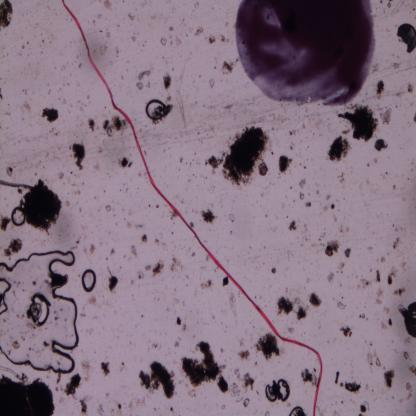Air bubble: (0, 247, 77, 374), (30, 292, 50, 328), (80, 268, 98, 295), (145, 99, 166, 120), (0, 276, 10, 315), (277, 377, 289, 404), (11, 206, 25, 227), (264, 383, 277, 401)
Background material: (204, 123, 270, 185), (182, 338, 229, 393), (0, 372, 55, 415), (22, 178, 64, 234), (135, 360, 178, 400), (338, 105, 379, 140), (230, 364, 257, 406), (254, 332, 282, 360), (399, 299, 416, 341), (395, 23, 416, 56), (328, 137, 350, 164), (69, 142, 87, 172), (102, 118, 126, 139), (0, 1, 15, 34), (276, 294, 296, 317), (296, 220, 313, 247), (47, 271, 69, 291), (4, 236, 24, 258), (147, 259, 167, 280), (300, 365, 319, 387), (276, 153, 294, 176), (66, 374, 82, 398), (40, 106, 61, 124), (134, 70, 152, 90), (105, 266, 119, 291), (325, 238, 341, 258), (378, 104, 393, 125), (374, 136, 390, 155), (384, 366, 396, 391), (198, 207, 216, 223), (221, 56, 236, 75), (314, 230, 328, 250), (308, 290, 323, 308), (366, 350, 381, 368), (82, 360, 94, 381), (116, 156, 134, 170), (296, 305, 309, 323), (271, 110, 287, 124), (376, 78, 386, 100), (344, 381, 364, 392), (78, 396, 89, 416), (165, 96, 177, 114), (125, 246, 140, 260), (386, 267, 397, 286), (18, 100, 34, 113), (171, 255, 183, 272), (129, 397, 147, 408), (100, 358, 111, 376), (228, 290, 237, 312), (198, 278, 214, 290), (86, 242, 98, 258), (358, 275, 370, 291), (0, 214, 11, 231), (192, 23, 205, 37), (237, 347, 250, 361), (374, 286, 383, 306), (287, 217, 299, 232), (175, 30, 185, 48), (86, 115, 96, 132), (288, 405, 305, 415), (96, 43, 108, 57), (339, 325, 354, 336), (404, 382, 413, 400), (358, 401, 370, 414), (111, 401, 122, 415), (128, 219, 143, 229), (164, 73, 174, 88), (102, 0, 114, 12), (327, 270, 336, 286), (390, 235, 401, 248), (208, 76, 218, 90), (4, 163, 14, 177), (336, 260, 346, 274), (96, 402, 106, 416), (372, 269, 382, 283), (76, 99, 86, 113), (391, 287, 406, 296), (86, 295, 98, 306), (48, 126, 61, 136), (95, 144, 106, 155), (336, 300, 346, 312), (340, 223, 350, 235), (104, 202, 114, 214), (399, 260, 409, 272), (108, 245, 118, 257), (270, 264, 279, 277), (286, 249, 295, 262), (298, 178, 308, 189), (367, 158, 378, 168), (128, 11, 138, 22), (224, 100, 234, 111), (315, 404, 324, 416), (343, 246, 352, 258), (198, 125, 210, 134), (186, 388, 196, 398), (407, 82, 415, 94), (84, 326, 96, 334), (140, 232, 148, 244), (62, 76, 70, 88), (288, 128, 300, 136), (52, 310, 60, 322), (338, 171, 346, 183), (410, 158, 416, 174), (222, 274, 230, 286), (175, 336, 182, 349), (395, 89, 405, 98), (72, 187, 82, 196), (288, 141, 298, 150), (93, 162, 102, 172), (372, 62, 380, 73), (208, 33, 216, 44), (334, 370, 340, 384), (134, 271, 144, 279), (358, 313, 368, 321), (113, 45, 121, 55), (151, 342, 161, 350), (58, 170, 65, 181), (176, 316, 183, 327), (403, 351, 410, 362), (228, 212, 235, 223), (382, 306, 390, 315), (193, 1, 201, 10), (154, 237, 162, 246), (383, 24, 391, 33), (409, 366, 416, 376), (404, 336, 411, 346), (167, 22, 174, 32), (288, 326, 295, 336), (329, 200, 336, 210), (170, 212, 177, 222), (343, 128, 353, 135), (393, 61, 401, 69), (160, 38, 168, 46), (399, 224, 407, 232), (284, 286, 292, 294), (306, 200, 313, 209), (386, 0, 395, 7), (62, 97, 68, 107), (388, 318, 394, 328), (104, 31, 112, 38), (43, 340, 50, 348), (189, 251, 197, 258), (120, 363, 127, 371), (270, 225, 277, 233), (381, 322, 388, 330), (412, 110, 416, 124), (305, 276, 312, 284), (366, 245, 374, 252), (20, 88, 29, 94), (379, 256, 386, 263), (64, 200, 71, 207), (131, 35, 139, 41), (364, 384, 370, 392), (299, 191, 305, 199), (210, 313, 216, 321), (169, 406, 175, 414), (264, 408, 270, 416), (332, 410, 340, 416), (392, 184, 398, 192), (119, 72, 124, 81), (220, 404, 227, 410), (174, 298, 181, 304), (394, 349, 400, 356), (325, 193, 331, 200), (80, 312, 87, 318), (323, 205, 329, 212), (398, 397, 404, 404), (96, 12, 102, 19), (183, 324, 188, 332), (170, 34, 174, 44), (99, 240, 104, 248), (368, 340, 374, 346), (20, 44, 26, 50), (77, 238, 83, 244), (0, 88, 3, 100), (92, 315, 98, 321), (334, 216, 339, 223), (268, 182, 276, 186), (182, 300, 186, 308), (339, 382, 344, 388), (77, 63, 83, 68), (4, 111, 10, 116), (46, 82, 52, 87), (152, 408, 158, 413), (47, 88, 52, 94), (165, 306, 170, 312), (301, 122, 306, 128), (78, 206, 82, 213), (32, 172, 39, 176), (206, 254, 210, 261), (299, 149, 302, 158), (229, 230, 234, 235), (385, 171, 390, 176), (92, 19, 97, 24), (264, 212, 268, 218), (326, 338, 330, 344), (86, 94, 90, 100), (186, 276, 192, 280), (40, 38, 44, 44), (34, 22, 38, 28), (105, 393, 110, 397), (156, 204, 160, 209), (146, 347, 150, 352), (340, 399, 344, 404), (140, 314, 145, 318), (253, 296, 258, 300), (260, 194, 264, 199), (178, 379, 182, 384), (315, 190, 320, 194), (392, 223, 395, 229), (380, 0, 384, 4), (359, 412, 363, 416), (130, 280, 134, 284), (248, 245, 252, 249), (262, 260, 265, 265), (391, 339, 394, 344), (286, 214, 289, 219), (170, 67, 173, 72), (392, 394, 394, 401), (170, 230, 173, 234), (299, 163, 302, 167), (182, 18, 185, 22), (406, 409, 409, 413), (70, 171, 74, 174), (395, 228, 399, 231), (106, 257, 109, 261), (372, 388, 375, 392), (116, 222, 119, 226), (100, 29, 103, 33), (148, 204, 151, 208), (307, 144, 309, 149), (41, 50, 43, 55), (194, 101, 197, 104), (304, 167, 308, 169), (271, 152, 273, 156), (290, 185, 292, 189), (294, 198, 296, 202), (272, 128, 274, 131), (403, 198, 406, 200), (307, 159, 309, 161), (187, 285, 189, 287), (27, 42, 29, 44)
Cellulose filter fibre: (0, 180, 33, 192)
Cotton: (60, 0, 323, 415)
Pen: (235, 0, 377, 110)
